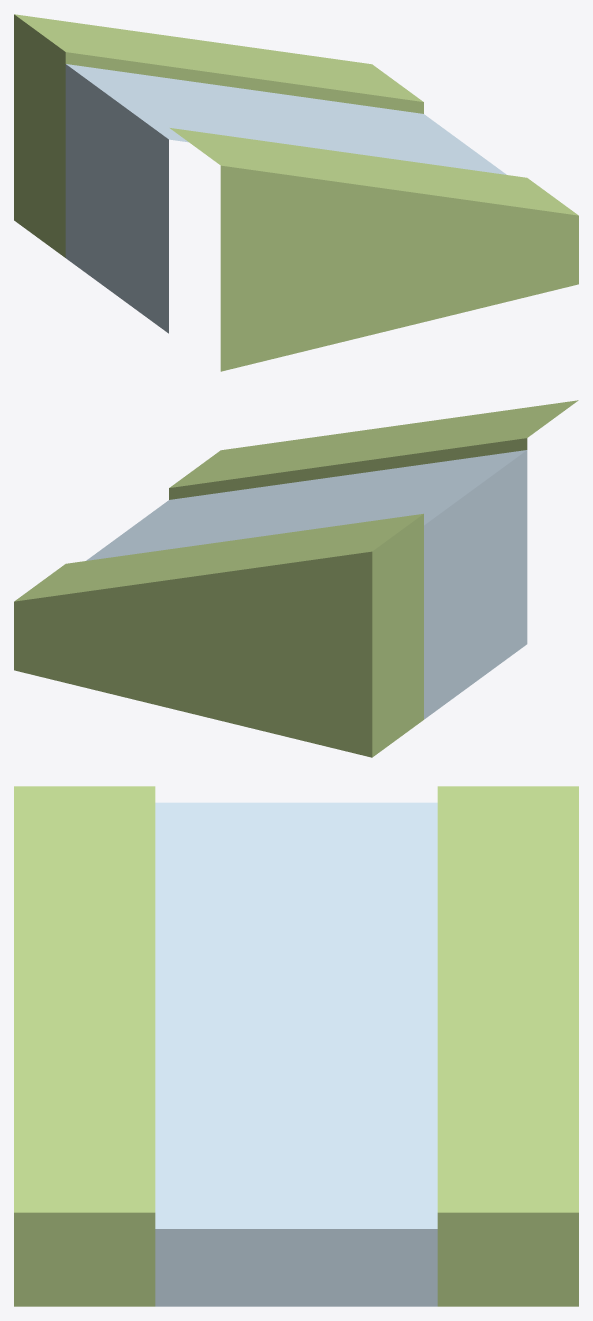
The model's file is roadTile_189.glb.
3 renders of one model, top to bottom at view 1: azimuth 30°, elevation 25°; view 2: azimuth 150°, elevation 25°; view 3: azimuth 270°, elevation 25°, orthographic. The views are drawn at different scales.
Parts seen in each view (by area): view 1: Mesh1 Group1 Model; view 2: Mesh1 Group1 Model; view 3: Mesh1 Group1 Model.
Part boxes in pixels (bbox=[...]): Mesh1 Group1 Model: bbox=[14, 14, 578, 371]; Mesh1 Group1 Model: bbox=[14, 400, 578, 757]; Mesh1 Group1 Model: bbox=[14, 786, 578, 1306].
Bounding box in the file's own units: 3 × 1.65 × 3.
